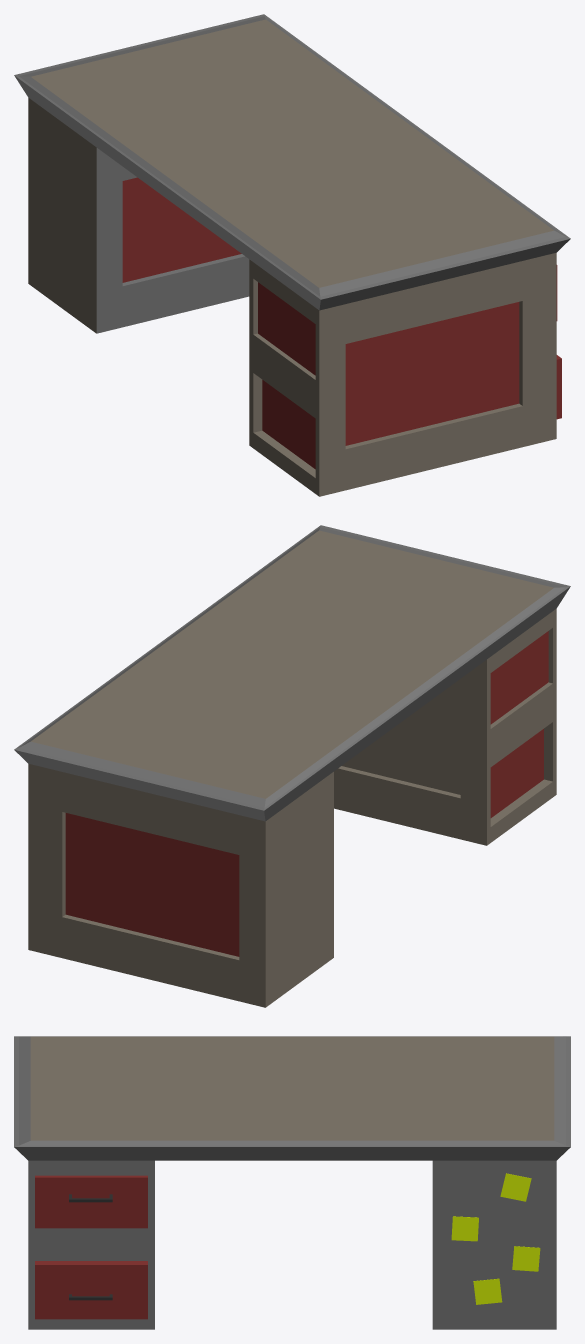
The model's file is prop-desk.fbx.
The picture shows the model from 3 angles, top to bottom: view 1: azimuth 30°, elevation 25°; view 2: azimuth 150°, elevation 25°; view 3: azimuth 270°, elevation 25°; orthographic projection. The views are drawn at different scales.
Parts seen in each view (by area): view 1: prop-desk; view 2: prop-desk; view 3: prop-desk.
Boxes of the visible parts, box(x1,y1,x2,y2) form: prop-desk: box(14, 14, 570, 496); prop-desk: box(14, 525, 570, 1007); prop-desk: box(14, 1036, 570, 1329).
Bounding box in the file's own units: 87.46 × 66.86 × 179.
